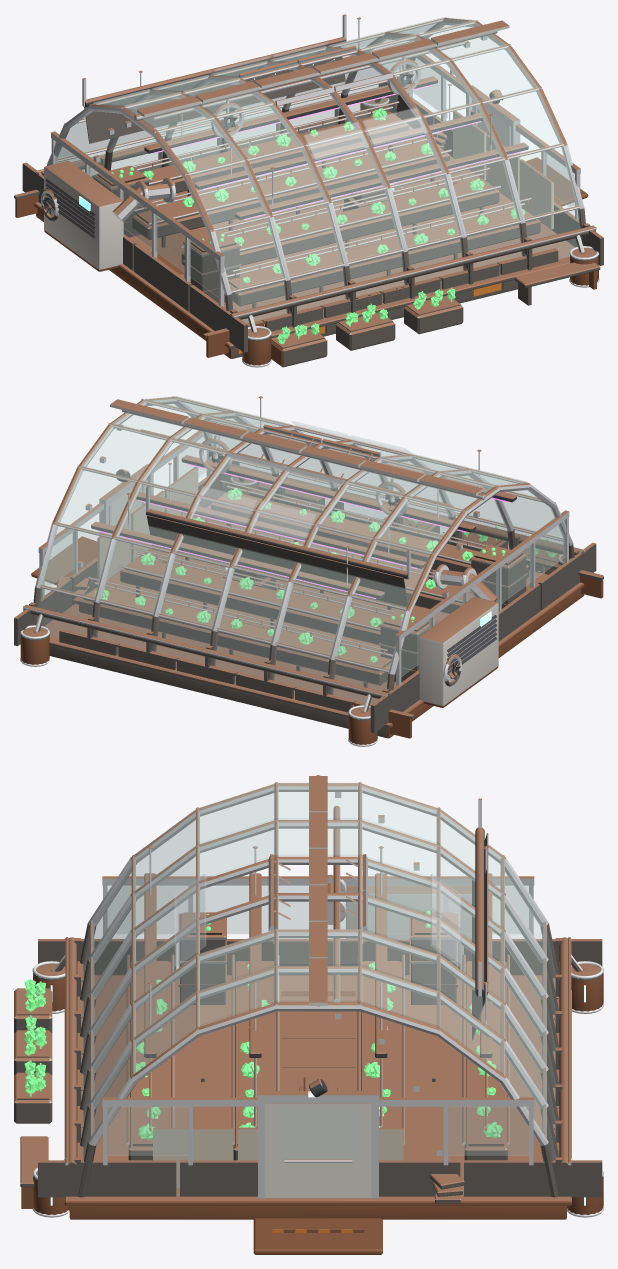
The model's file is greenhouse.glb.
The picture shows the model from 3 angles, top to bottom: view 1: azimuth 30°, elevation 25°; view 2: azimuth 150°, elevation 25°; view 3: azimuth 270°, elevation 25°; orthographic projection. The views are drawn at different scales.
Parts seen in each view (by area): view 1: greenhouse_body, greenhouse_glass; view 2: greenhouse_body, greenhouse_glass; view 3: greenhouse_body, greenhouse_glass.
Part boxes in pixels (left/top/right/bottom): greenhouse_body: left=14, top=14, right=603, bottom=367; greenhouse_glass: left=55, top=17, right=581, bottom=326; greenhouse_body: left=14, top=396, right=603, bottom=744; greenhouse_glass: left=38, top=396, right=565, bottom=706; greenhouse_body: left=14, top=775, right=603, bottom=1254; greenhouse_glass: left=83, top=782, right=555, bottom=1162.
Bounding box in the file's own units: 10.92 × 4.04 × 9.56.
